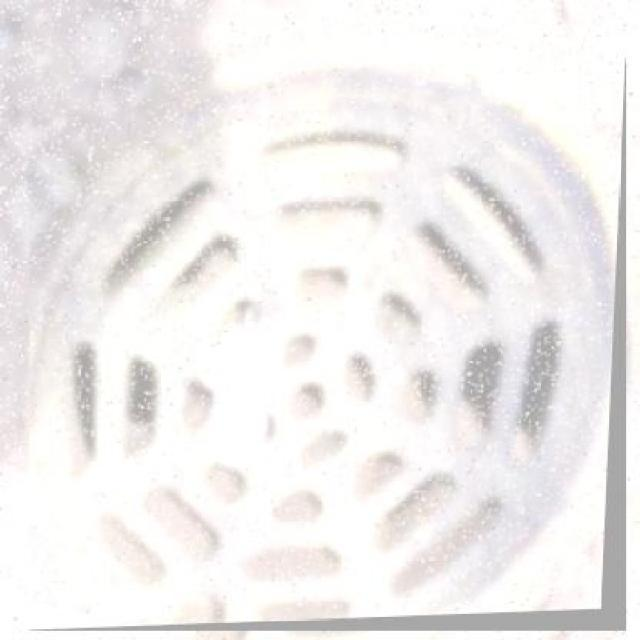Manhole: (29, 58, 626, 631)
